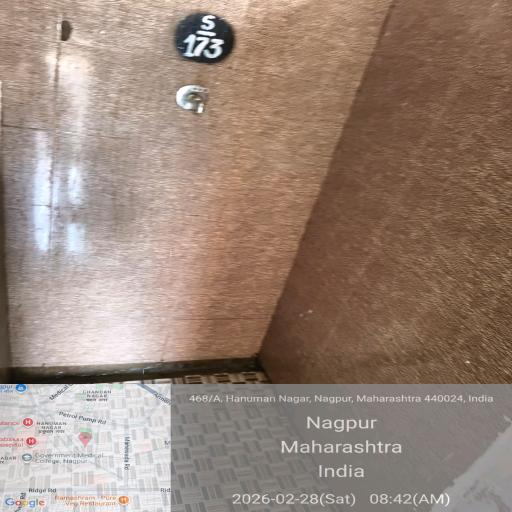clean_floor: (68, 68, 402, 327), (38, 339, 380, 512)
